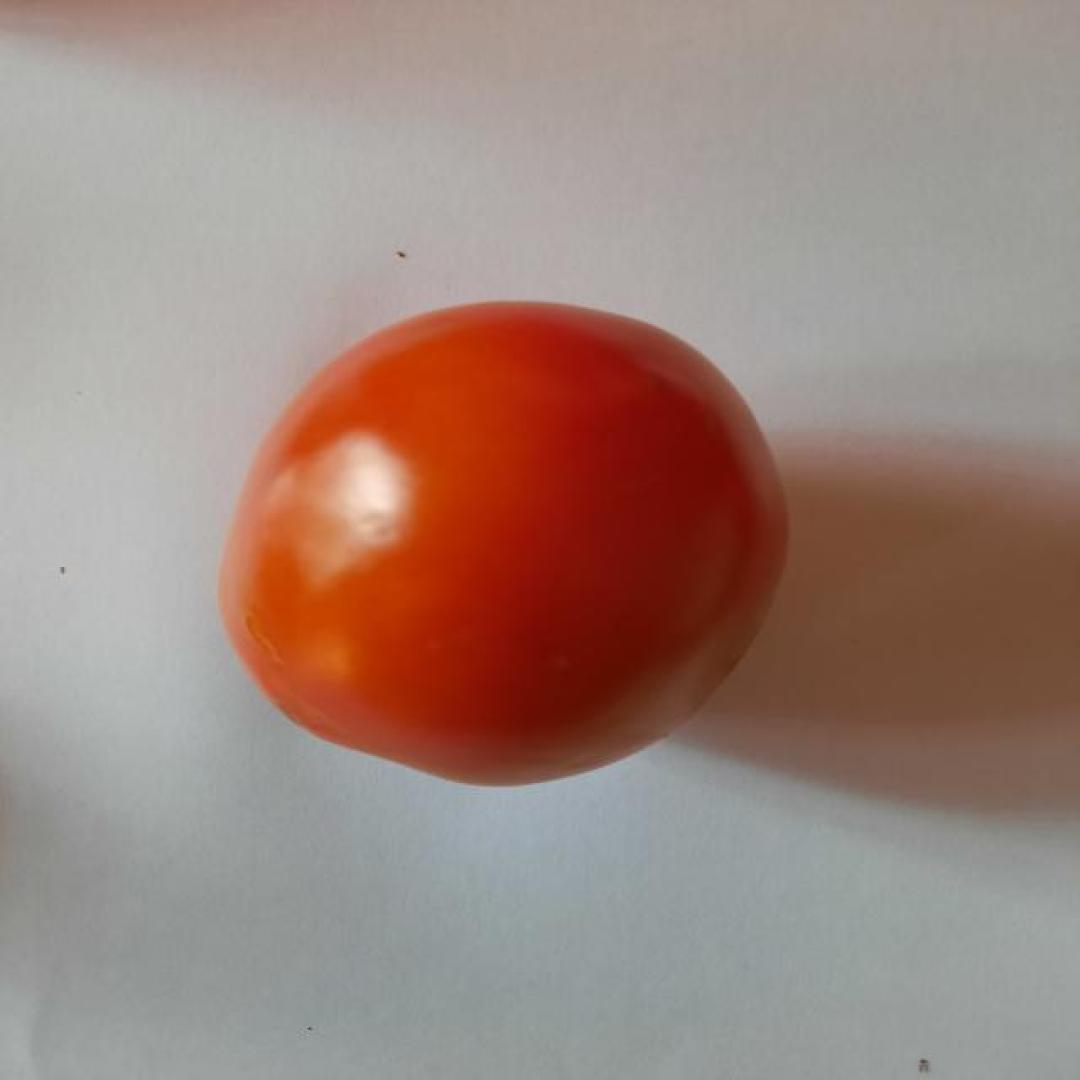matang: (216, 299, 793, 788)
